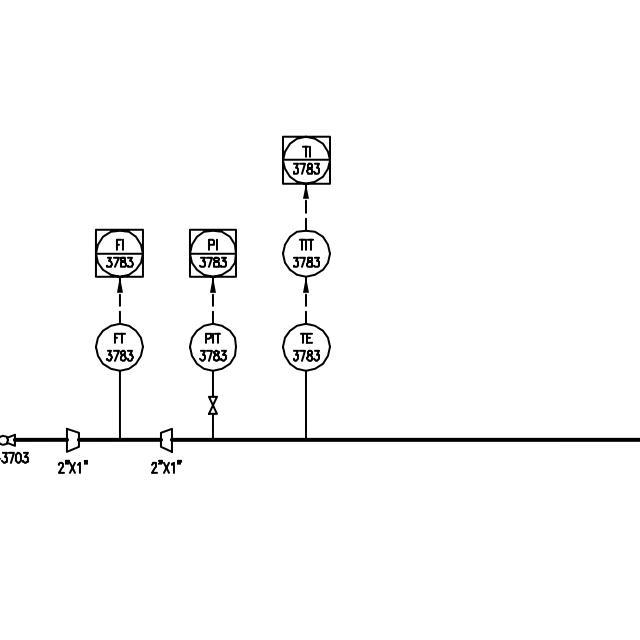GV: (205, 391, 219, 416)
SP: (63, 425, 86, 456), (157, 426, 178, 453)
